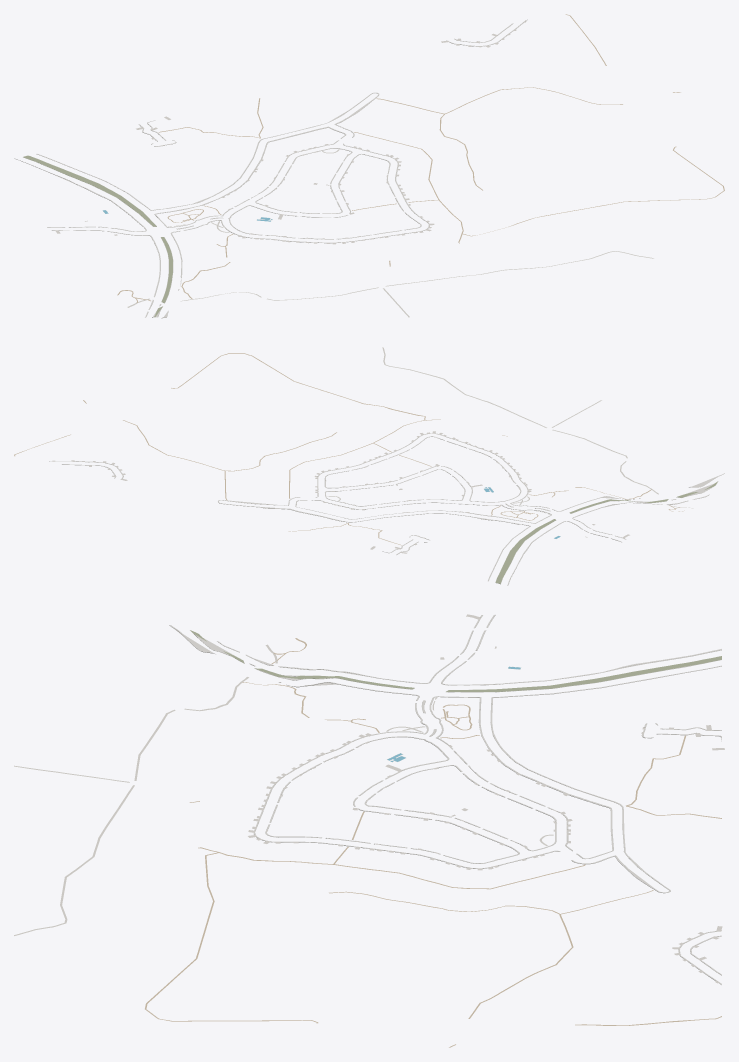
The model's file is ground_r5_c2.glb.
3 renders of one model, top to bottom at view 1: azimuth 30°, elevation 25°; view 2: azimuth 150°, elevation 25°; view 3: azimuth 270°, elevation 25°, orthographic. The views are drawn at different scales.
Parts seen in each view (by area): view 1: sidewalks, paths, medians, driveways; view 2: sidewalks, paths, driveways, medians; view 3: sidewalks, paths, medians, driveways.
Part boxes in pixels (<box>): sidewalks: <box>14,19,527,318</box>; paths: <box>117,14,724,317</box>; medians: <box>23,155,173,317</box>; driveways: <box>55,21,526,244</box>; sidewalks: <box>49,433,724,585</box>; paths: <box>14,347,693,545</box>; driveways: <box>52,431,629,553</box>; medians: <box>495,481,718,584</box>; sidewalks: <box>169,614,721,984</box>; paths: <box>14,638,721,1047</box>; medians: <box>190,630,721,692</box>; driveways: <box>248,614,724,983</box>.
Bounding box in the file's own units: 1125 × 61.71 × 791.
